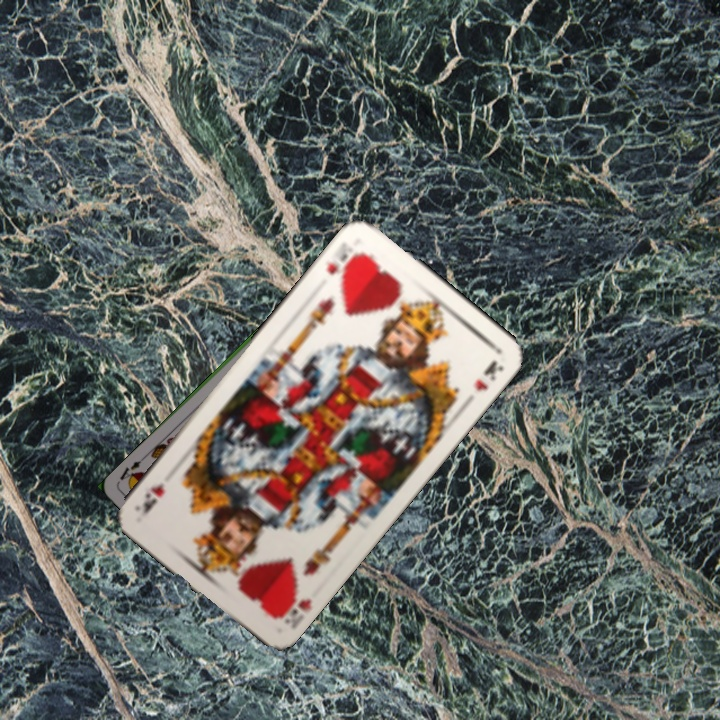HK: (270, 586, 315, 631), (322, 245, 365, 283)
